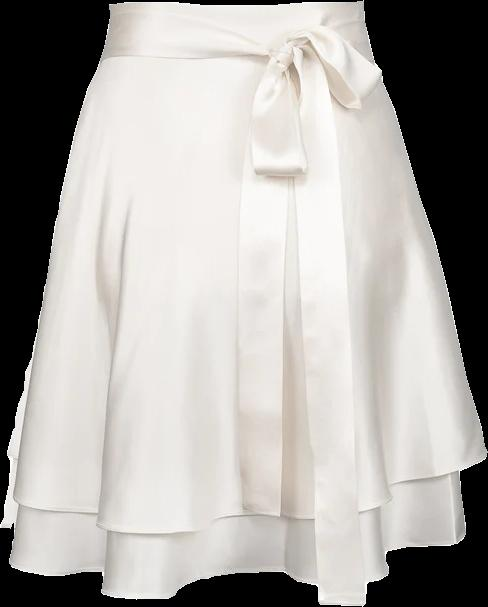Hemline: (5, 452, 487, 537), (0, 524, 463, 606)
Waistline: (109, 0, 359, 35)
